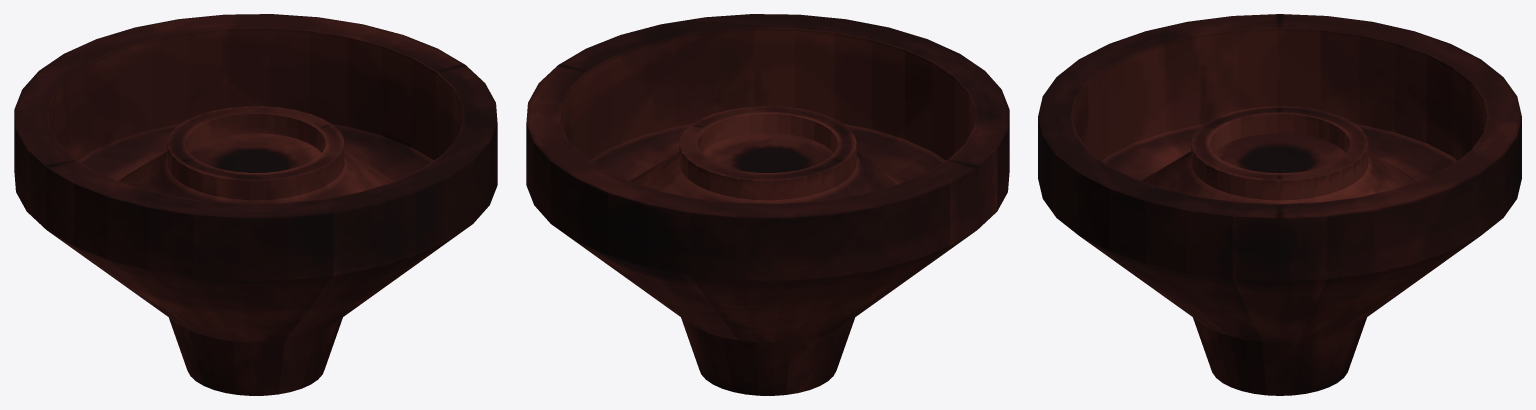
The model's file is M_INT_SilhouetteBowl.fbx.
3 renders of one model, left to right at view 1: azimuth 30°, elevation 25°; view 2: azimuth 150°, elevation 25°; view 3: azimuth 270°, elevation 25°, orthographic.
Parts seen in each view (by area): view 1: Bowl; view 2: Bowl; view 3: Bowl.
Part boxes in pixels (bbox=[...]): Bowl: bbox=[14, 14, 497, 395]; Bowl: bbox=[526, 14, 1009, 395]; Bowl: bbox=[1038, 14, 1521, 395].
Bounding box in the file's own units: 87.5 × 50 × 87.5.
1 material, 1 textured.
